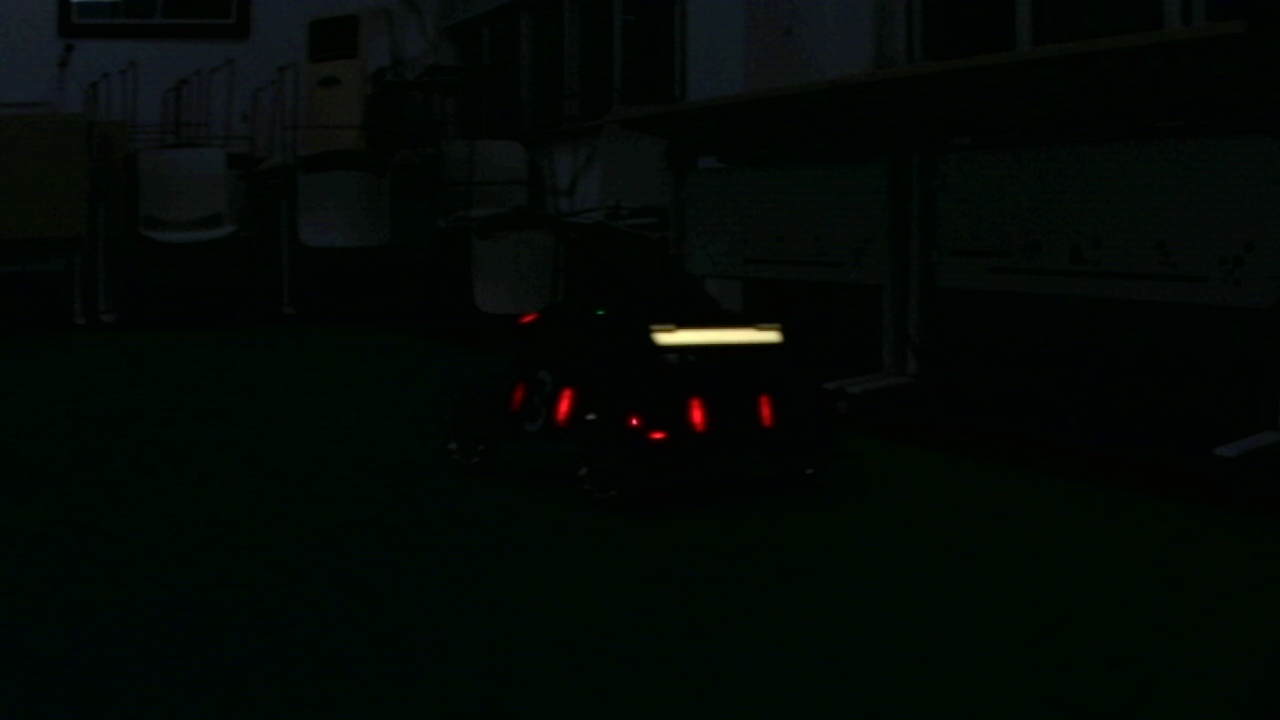lamp: (549, 380, 572, 430), (683, 390, 708, 431), (759, 384, 776, 430)
notpair1: (552, 381, 708, 436)
pair1: (688, 390, 777, 434)
